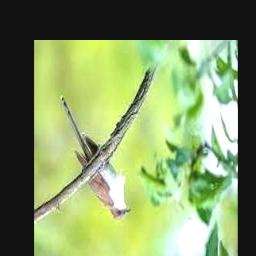Cuckoo: (60, 96, 131, 220)
